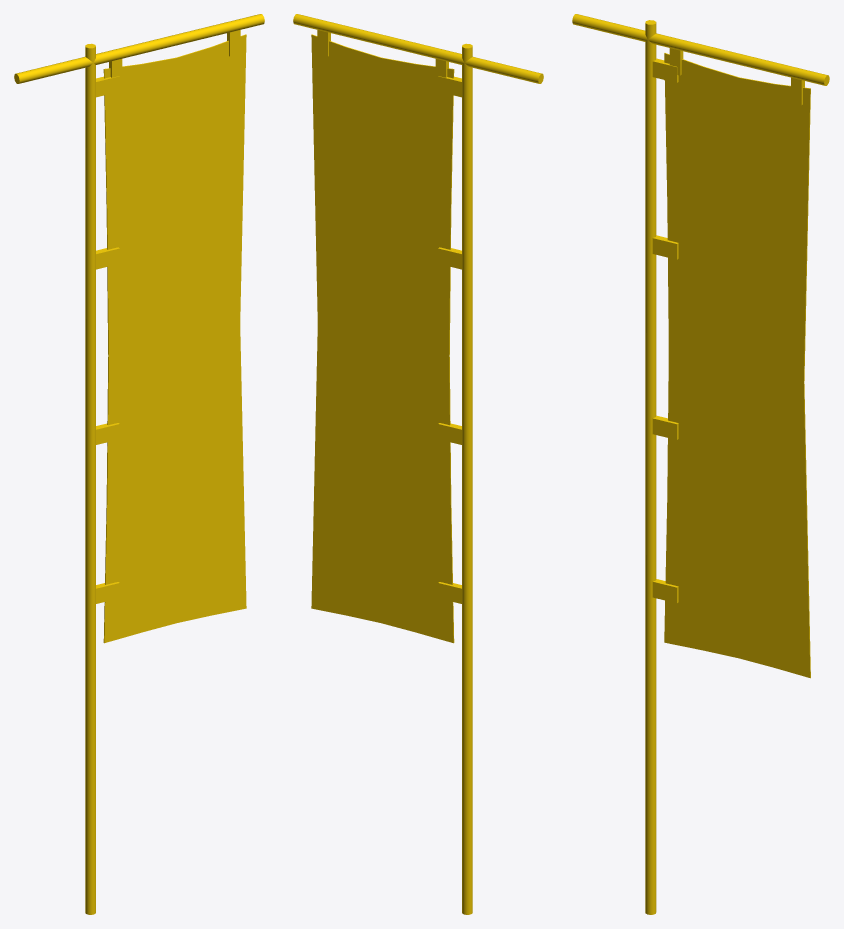
File: flag2.obj
3 views of the same model, side by side, from view 1: azimuth 30°, elevation 25°; view 2: azimuth 150°, elevation 25°; view 3: azimuth 330°, elevation 25° (orthographic). The views are drawn at different scales.
Visible parts, largest first — view 1: flag, pb-MergedObject-9496090_0; view 2: flag, pb-MergedObject-9496090_0; view 3: flag, pb-MergedObject-9496090_0.
Part boxes in pixels (box(x1,y1,x2,y2)): flag: box(103, 34, 246, 643); pb-MergedObject-9496090_0: box(14, 14, 264, 914); flag: box(311, 34, 454, 643); pb-MergedObject-9496090_0: box(293, 14, 543, 914); flag: box(664, 53, 810, 678); pb-MergedObject-9496090_0: box(572, 14, 829, 914).
Size of the model in its own units: 0.567 by 1.91 by 0.0225.
